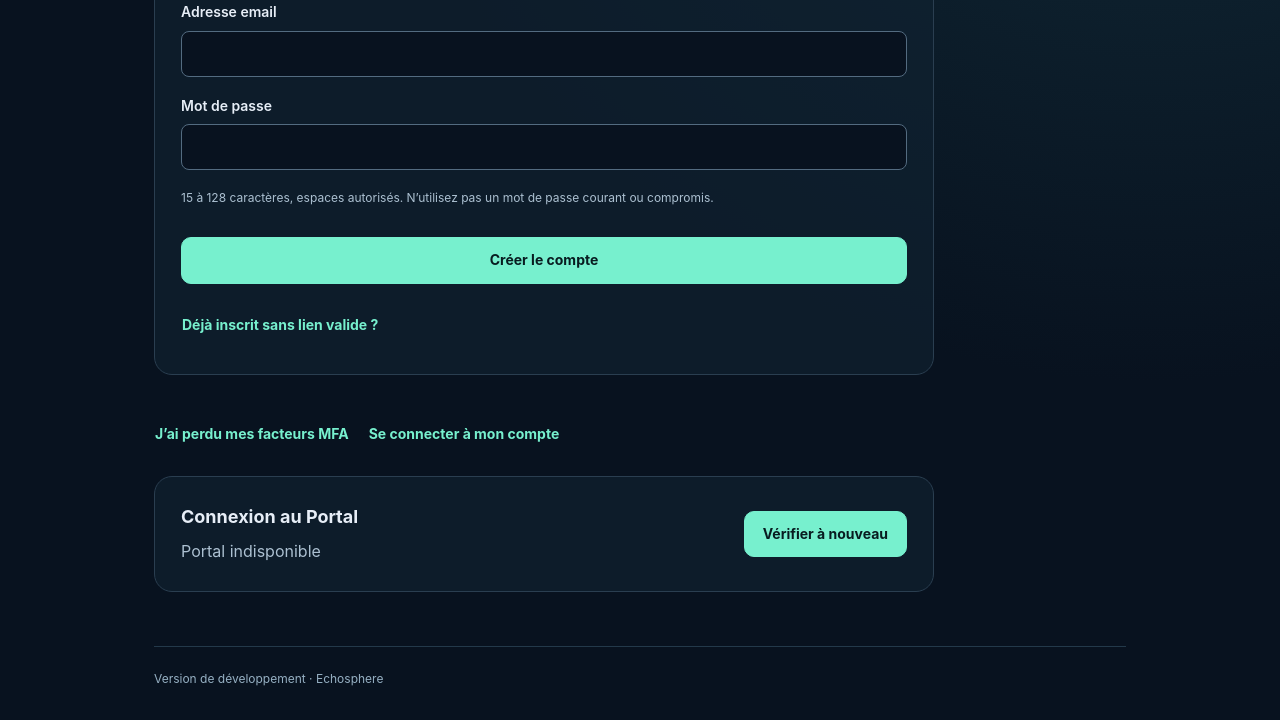
rejects a Game response and recovers on explicit retry
(page scrolled)
expect the text "Portal indisponible" is shown: met, box left=181, top=541, right=321, bottom=561
Click the button "Vérifier à nouveau" at (825, 534), box left=744, top=510, right=907, bottom=557
(page scrolled)
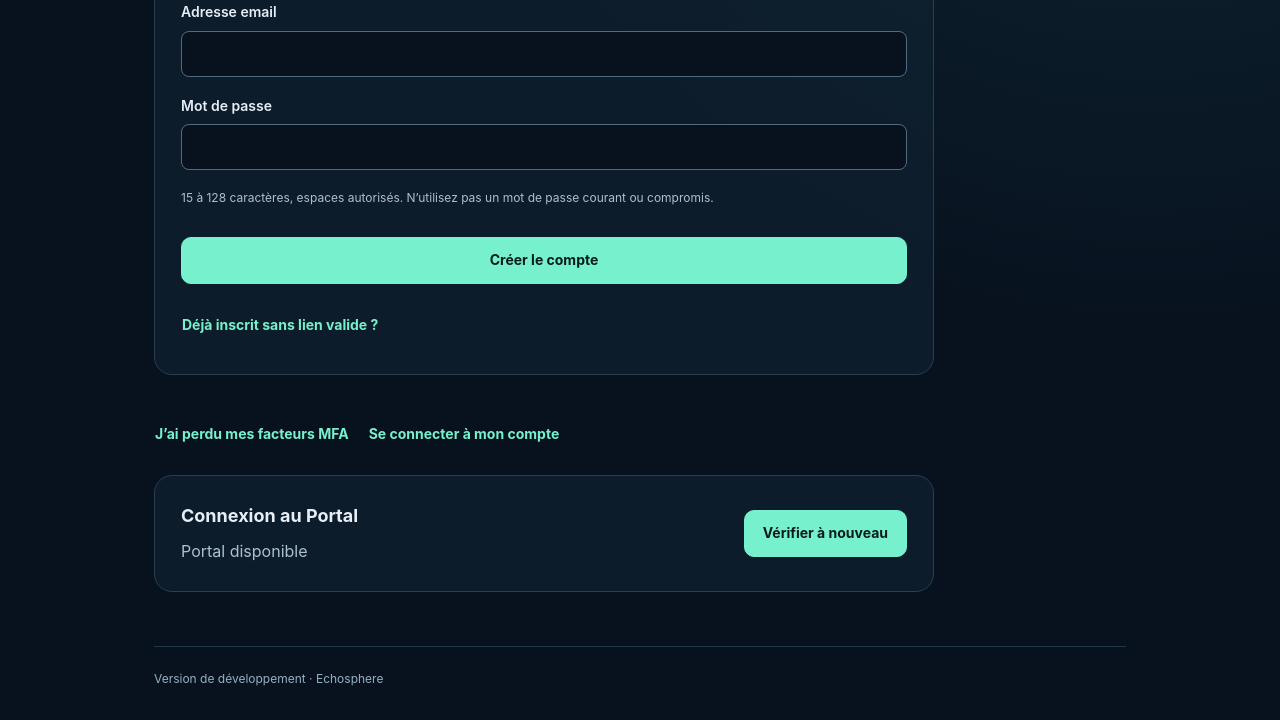
expect the text "Portal disponible" is shown: met, box left=181, top=541, right=308, bottom=561
